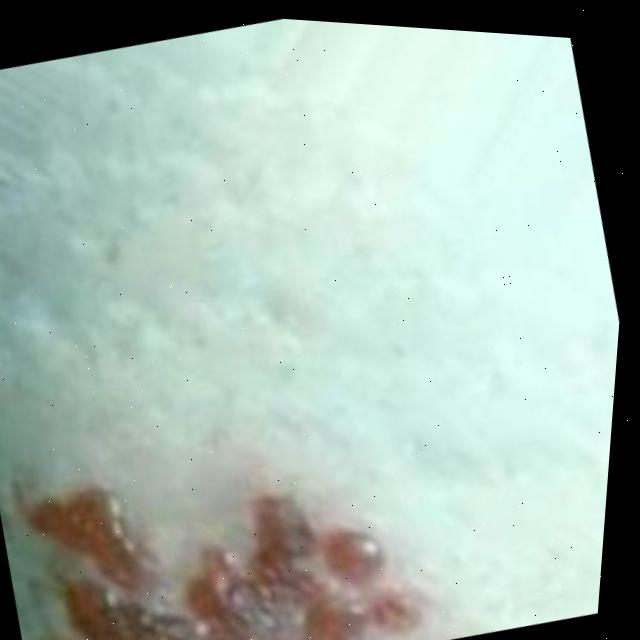Shingles: (0, 402, 447, 640)
